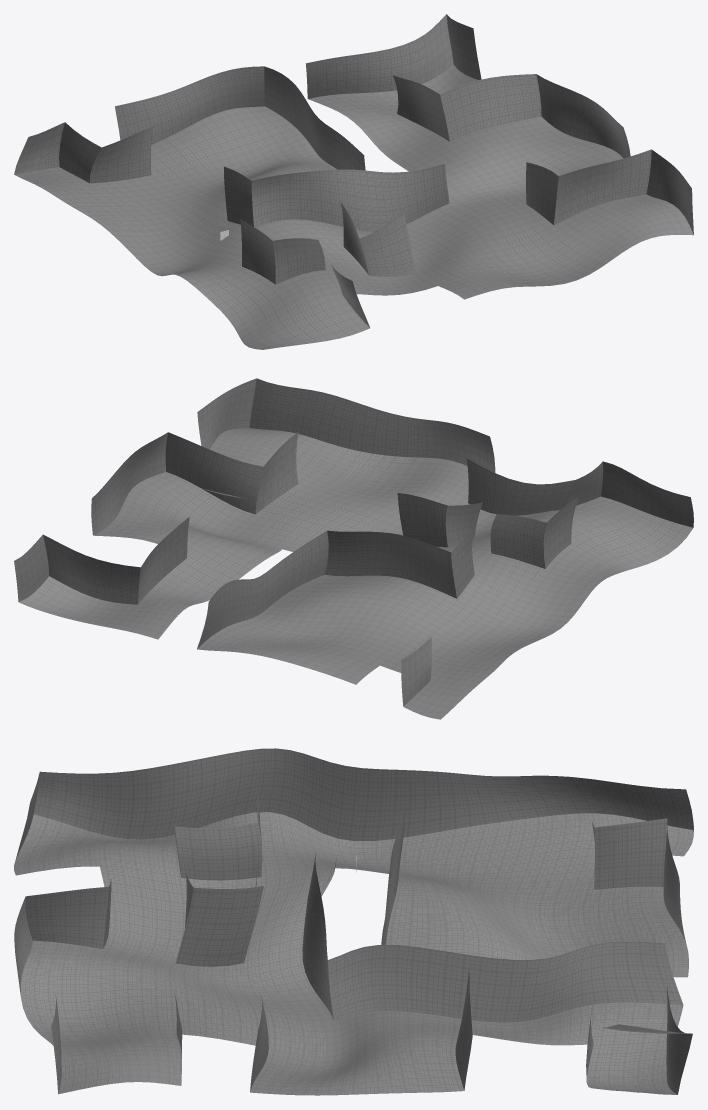
The picture shows the model from 3 angles, top to bottom: view 1: azimuth 30°, elevation 25°; view 2: azimuth 150°, elevation 25°; view 3: azimuth 270°, elevation 25°; orthographic projection. The views are drawn at different scales.
Visible parts, largest first — view 1: lattice_floor; view 2: lattice_floor; view 3: lattice_floor.
Boxes of the visible parts, x1,y1,x2,y2 form: lattice_floor: (14,14,693,349); lattice_floor: (14,378,693,719); lattice_floor: (14,748,693,1095).
Size of the model in its own units: 53.73 by 8.53 by 52.42.
Materials: 1 (1 with a texture image).
